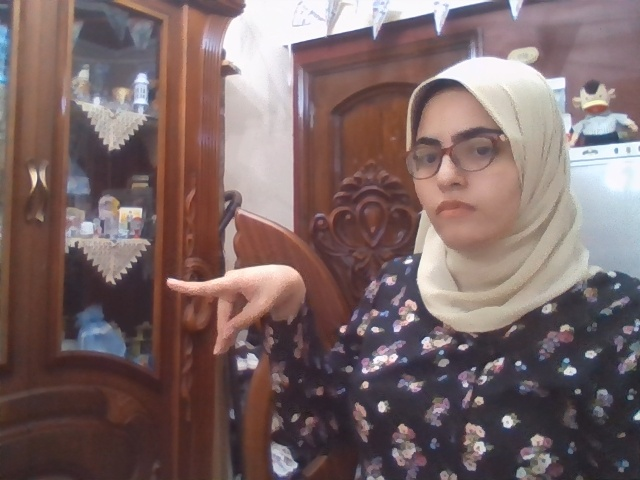P: (166, 264, 306, 357)
